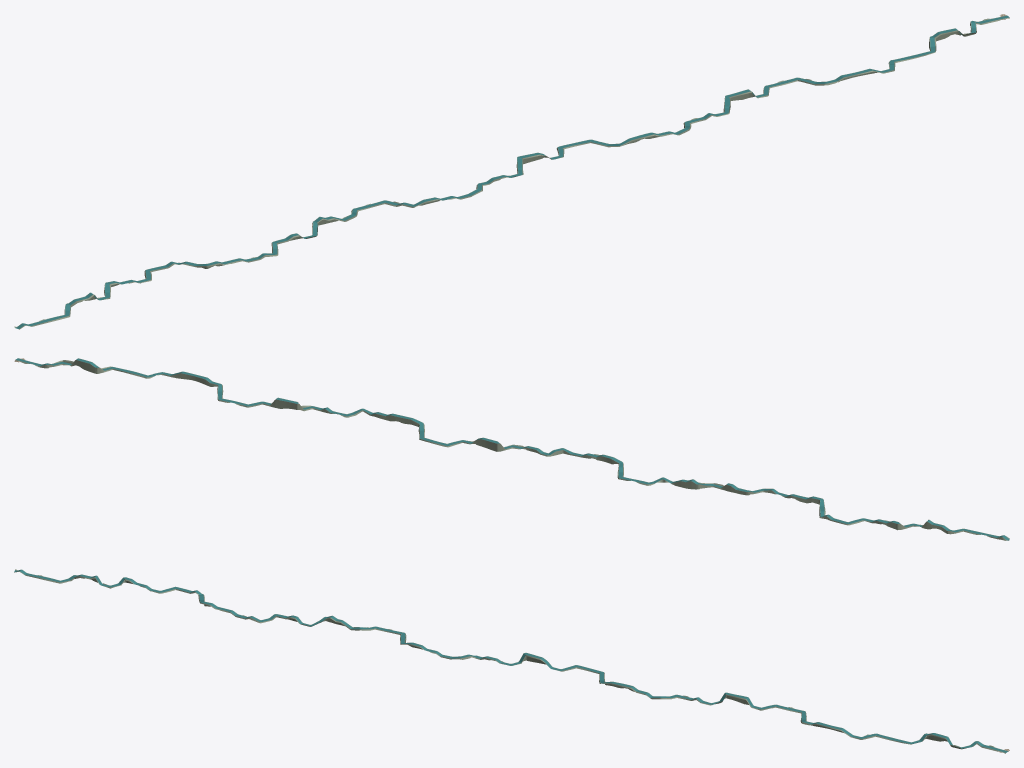
File: river.glb
The picture shows the model from 3 angles, top to bottom: view 1: azimuth 30°, elevation 25°; view 2: azimuth 150°, elevation 25°; view 3: azimuth 330°, elevation 25°; orthographic projection. The views are drawn at different scales.
Bounding box in the file's own units: 348 × 2.94 × 43.91.
